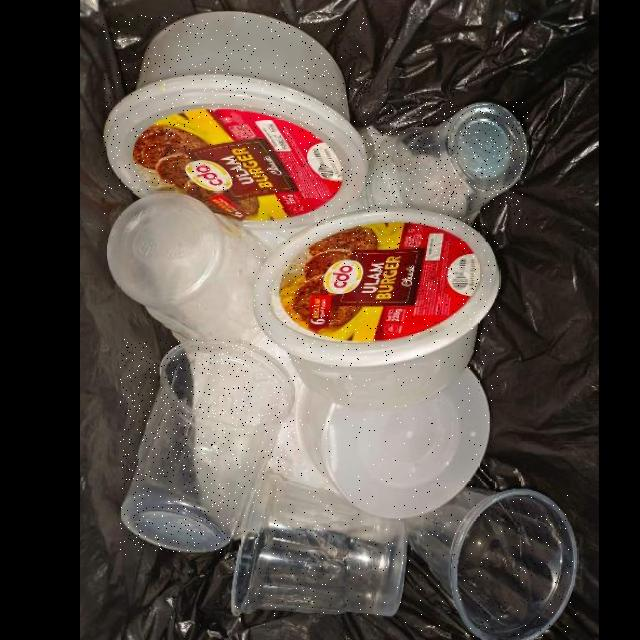plastic: (103, 12, 369, 231), (253, 208, 500, 412), (120, 339, 296, 555), (296, 366, 491, 521), (404, 488, 578, 640), (230, 473, 409, 618), (107, 193, 274, 343), (366, 102, 528, 226)
